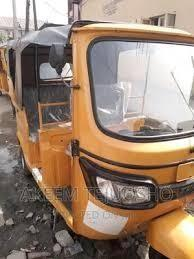keke: (10, 19, 194, 259)
